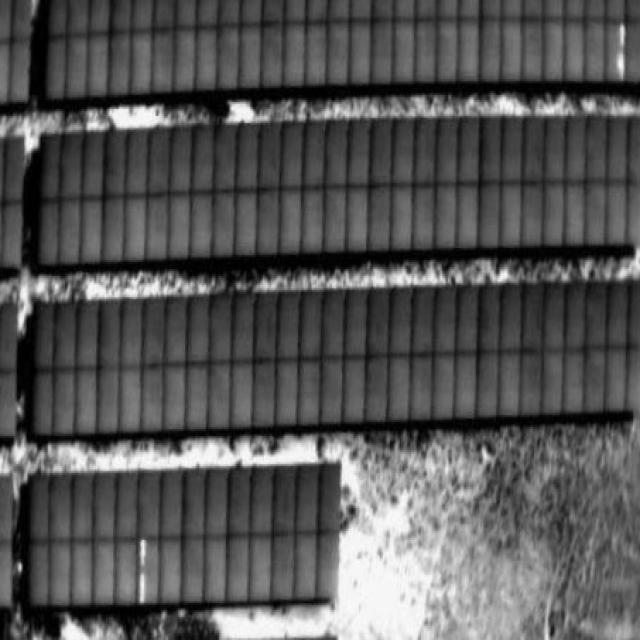Line Fault: (136, 540, 150, 607), (615, 10, 626, 94)
Panel: (32, 290, 640, 430), (41, 128, 640, 257), (53, 0, 640, 90), (24, 475, 340, 599)
